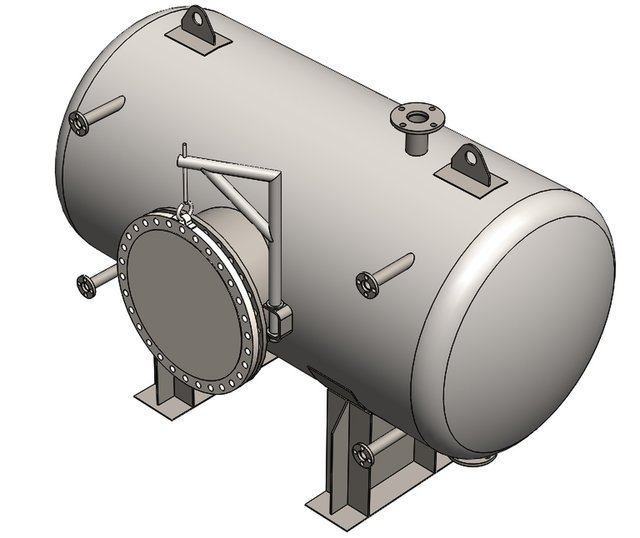nozzle: (385, 94, 449, 167)
